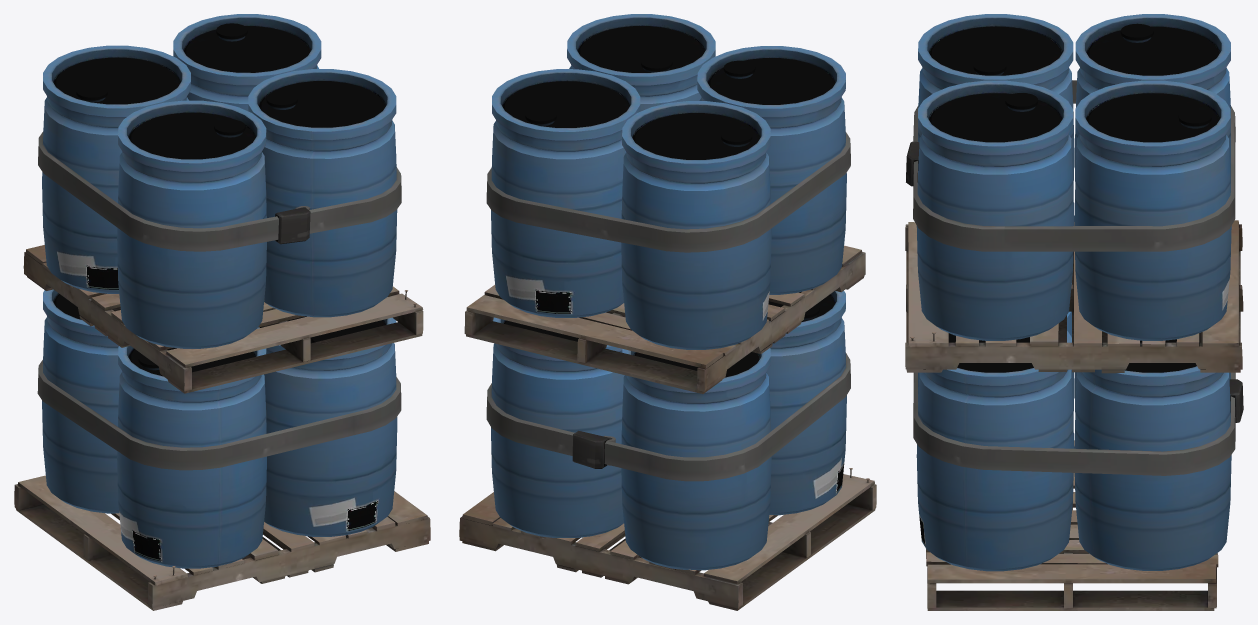
3 renders of one model, left to right at view 1: azimuth 30°, elevation 25°; view 2: azimuth 150°, elevation 25°; view 3: azimuth 270°, elevation 25°, orthographic. The views are drawn at different scales.
Visible parts, largest first — view 1: body0_model0_lod0_mesh0, body0_model0_lod0_mesh1; view 2: body0_model0_lod0_mesh0, body0_model0_lod0_mesh1; view 3: body0_model0_lod0_mesh0, body0_model0_lod0_mesh1.
Part boxes in pixels (bbox=[...]): body0_model0_lod0_mesh0: bbox=[37, 14, 401, 568]; body0_model0_lod0_mesh1: bbox=[14, 245, 430, 610]; body0_model0_lod0_mesh0: bbox=[486, 14, 850, 570]; body0_model0_lod0_mesh1: bbox=[459, 245, 876, 610]; body0_model0_lod0_mesh0: bbox=[906, 14, 1243, 571]; body0_model0_lod0_mesh1: bbox=[905, 220, 1243, 610].
Bounding box in the file's own units: 74.84 × 112 × 74.89.
2 materials, 2 textured.
